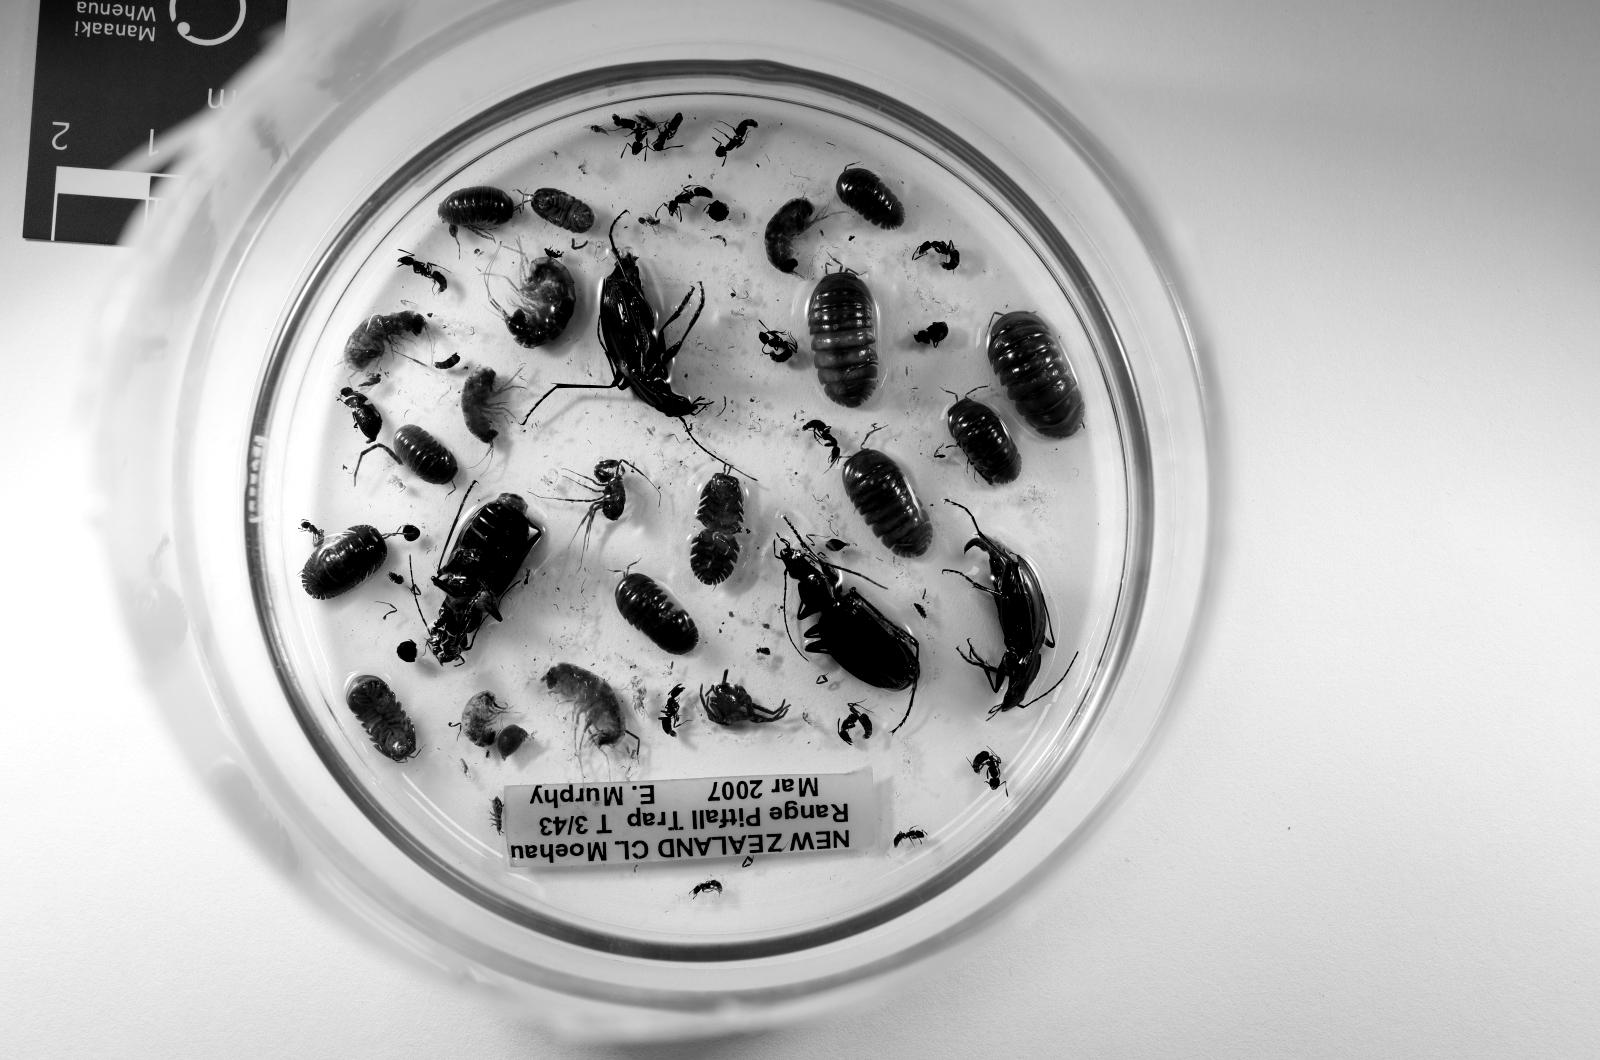amphipoda: (544, 665, 628, 764), (506, 258, 575, 348), (462, 367, 519, 451), (344, 310, 425, 369), (765, 199, 812, 273), (459, 692, 506, 749)
carabidae: (553, 218, 706, 419), (775, 537, 919, 696), (428, 493, 544, 665), (963, 531, 1054, 717)
coleoptera: (337, 388, 381, 444), (913, 323, 947, 348)
collembola: (491, 799, 503, 835)
diptera: (631, 109, 656, 130), (637, 212, 661, 228), (359, 373, 381, 388), (583, 124, 611, 135), (388, 571, 403, 584)
formicidae: (715, 118, 759, 164), (397, 252, 447, 292), (803, 419, 841, 466), (666, 187, 713, 220), (650, 111, 685, 153), (913, 239, 959, 270), (759, 329, 797, 363), (660, 684, 685, 736), (837, 705, 872, 742), (972, 751, 1003, 789), (300, 518, 325, 547), (894, 829, 928, 848), (631, 121, 650, 155), (691, 879, 721, 898)
isopoda: (987, 310, 1084, 438), (843, 447, 934, 558), (807, 267, 879, 407), (947, 394, 1022, 485), (300, 525, 388, 600), (616, 575, 697, 655), (691, 472, 744, 587), (346, 674, 415, 761), (837, 164, 903, 230), (438, 187, 516, 239), (394, 426, 459, 485), (529, 189, 594, 233)
opiliones: (569, 459, 641, 547), (700, 671, 788, 726)
